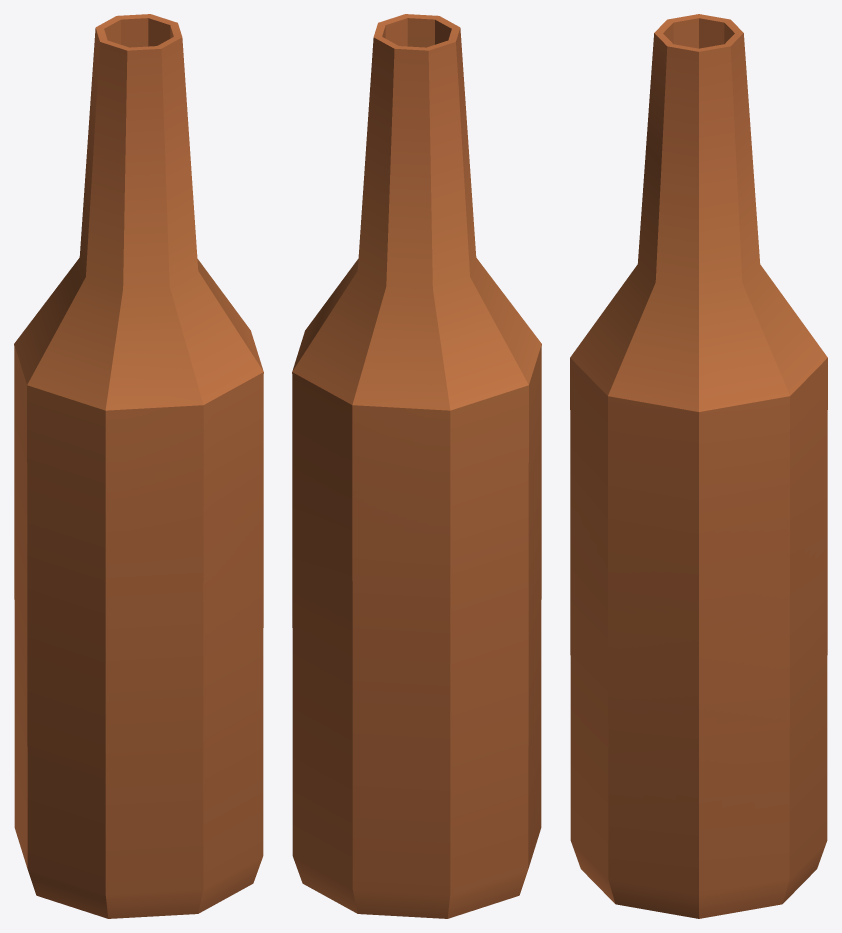
The model's file is Glass01Bottle.fbx.
3 renders of one model, left to right at view 1: azimuth 30°, elevation 25°; view 2: azimuth 150°, elevation 25°; view 3: azimuth 270°, elevation 25°, orthographic.
Visible parts, largest first — view 1: GlassBottle; view 2: GlassBottle; view 3: GlassBottle.
Boxes of the visible parts, bbox=[...] form: GlassBottle: bbox=[14, 14, 263, 918]; GlassBottle: bbox=[292, 14, 541, 918]; GlassBottle: bbox=[570, 14, 827, 918].
Size of the model in its own units: 31.45 by 113 by 31.45.
